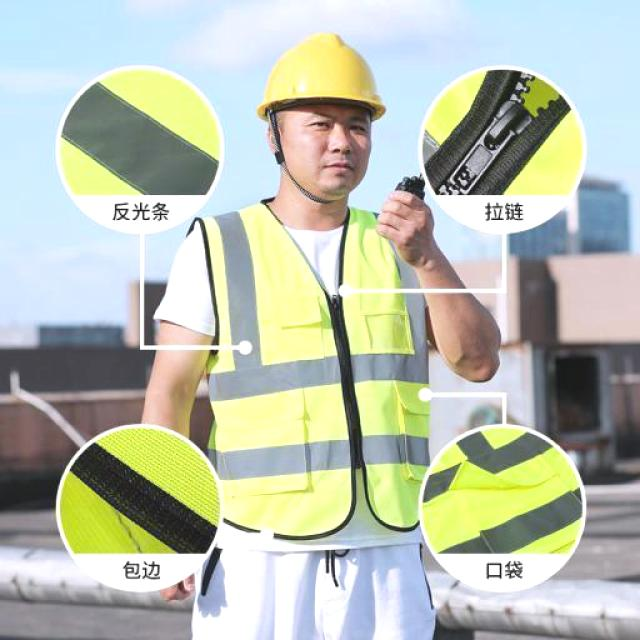face_nomask: (295, 109, 374, 190)
hand_noglove: (371, 188, 442, 268)
head_helmet: (252, 27, 396, 122)
person: (160, 21, 504, 640)
vest: (198, 198, 447, 542)
